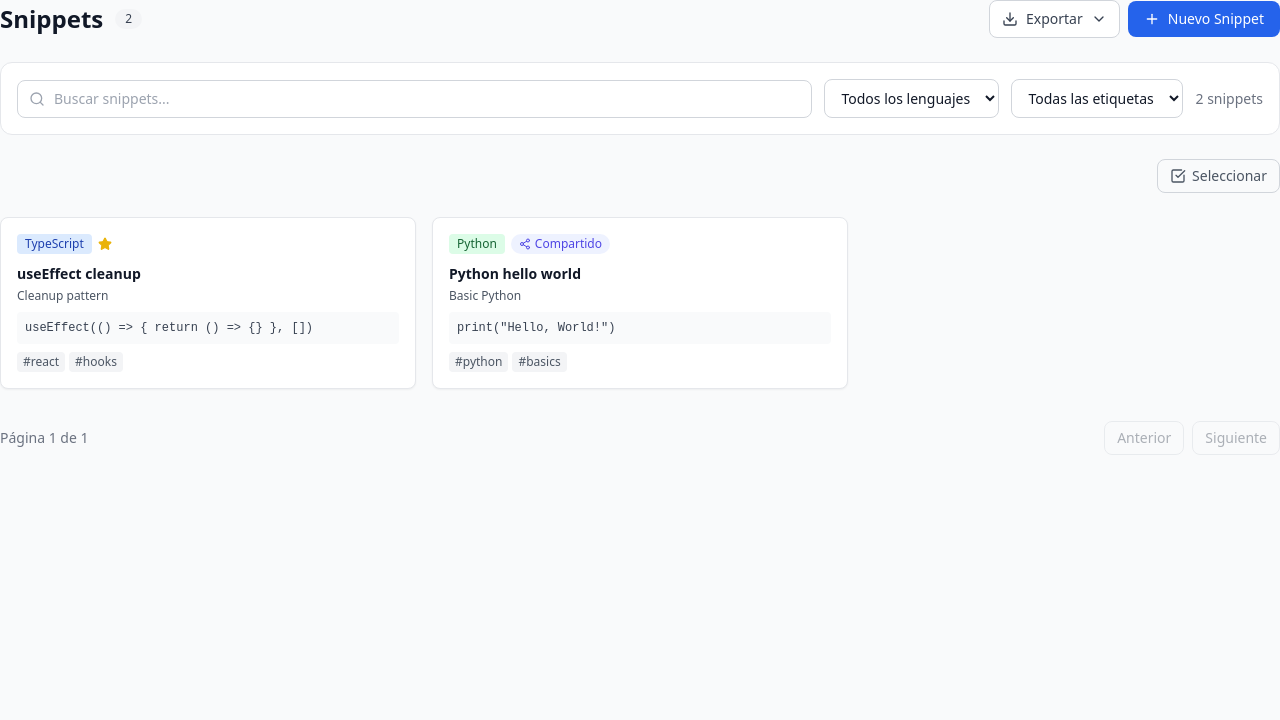
Test: SnippetsPage › el botón Nuevo Snippet abre el SnippetModal
Click the button "Nuevo Snippet" at (1204,19), box [1128, 1, 1279, 37]
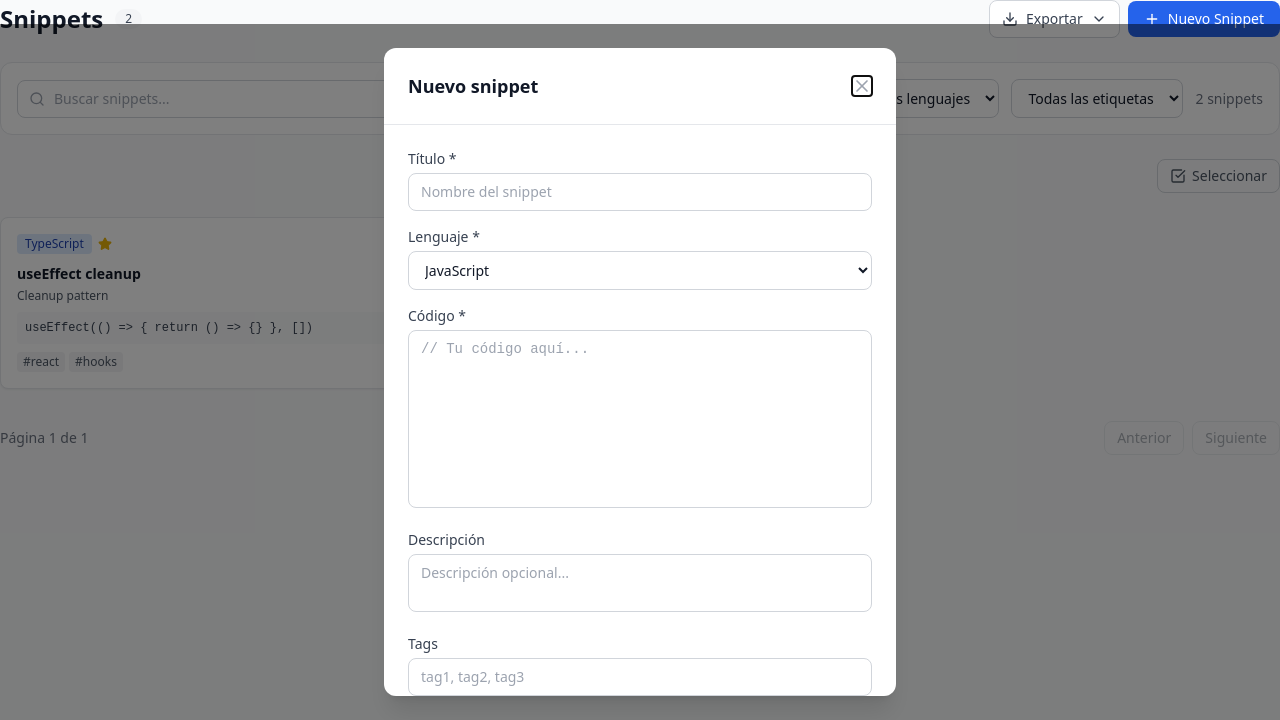
Result: the dialog is shown at [384, 48, 896, 696]
Result: the heading "Nuevo snippet" is shown at [408, 72, 538, 100]
